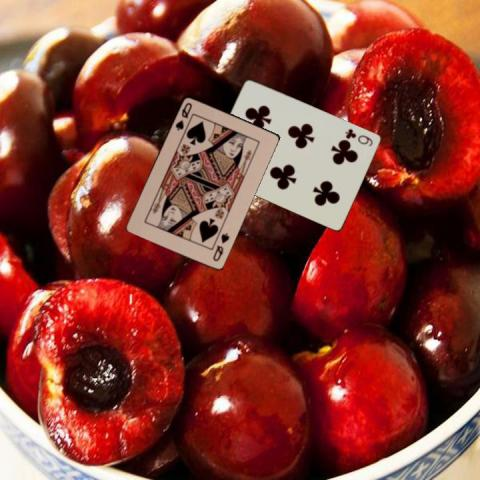6c: (342, 125, 374, 148)
Qs: (209, 230, 231, 263), (172, 100, 193, 132)
